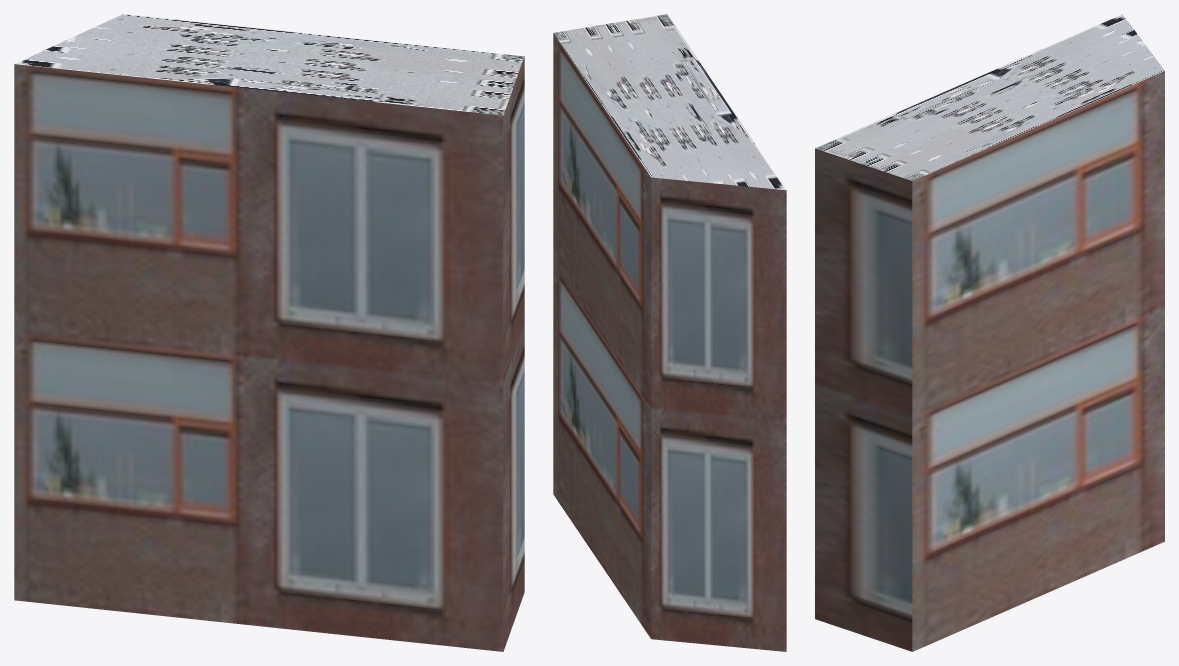
File: ResTex__3745.fbx
The picture shows the model from 3 angles, left to right: view 1: azimuth 30°, elevation 25°; view 2: azimuth 150°, elevation 25°; view 3: azimuth 270°, elevation 25°; orthographic projection. The views are drawn at different scales.
Parts seen in each view (by area): view 1: CityEngineMaterial_19_m, CityEngineMaterial_15_m; view 2: CityEngineMaterial_19_m, CityEngineMaterial_15_m; view 3: CityEngineMaterial_19_m, CityEngineMaterial_15_m.
Boxes of the visible parts, left/top/right/bottom form: CityEngineMaterial_19_m: left=14, top=56, right=524, bottom=651; CityEngineMaterial_15_m: left=15, top=14, right=524, bottom=115; CityEngineMaterial_19_m: left=553, top=33, right=786, bottom=651; CityEngineMaterial_15_m: left=554, top=14, right=785, bottom=190; CityEngineMaterial_19_m: left=815, top=71, right=1164, bottom=651; CityEngineMaterial_15_m: left=815, top=14, right=1164, bottom=180.
Size of the model in its own units: 4.57 by 6 by 4.04.
2 materials, 2 textured.
